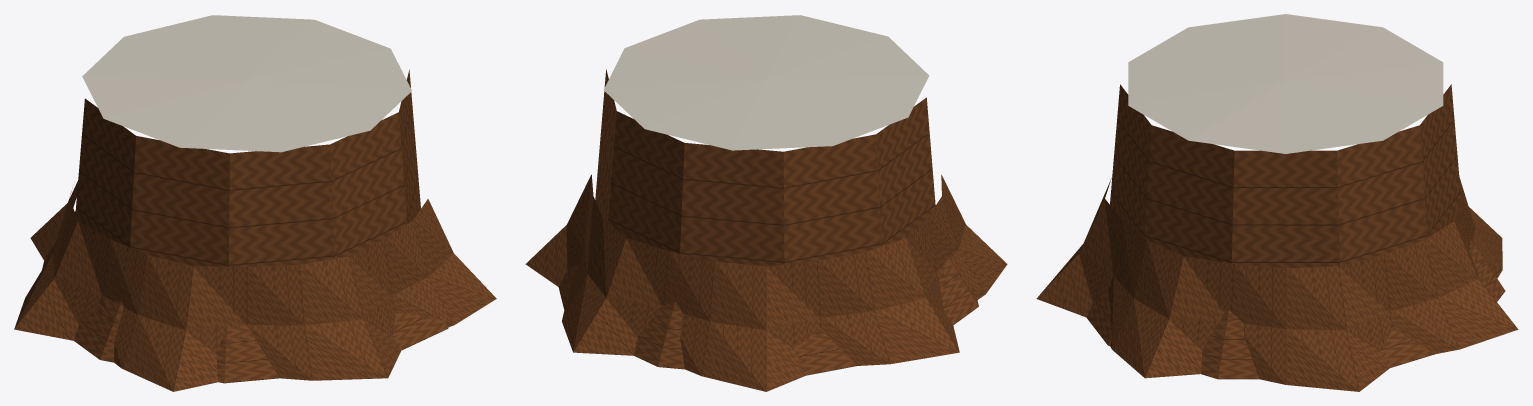
The model's file is dense-temperate-forest-flora-stump-large-dca9db05__28419.glb.
3 views of the same model, side by side, from view 1: azimuth 30°, elevation 25°; view 2: azimuth 150°, elevation 25°; view 3: azimuth 270°, elevation 25° (orthographic).
Parts seen in each view (by area): view 1: stump-large; view 2: stump-large; view 3: stump-large.
Boxes of the visible parts, bbox=[...] form: stump-large: bbox=[14, 15, 496, 391]; stump-large: bbox=[525, 15, 1007, 391]; stump-large: bbox=[1036, 14, 1518, 391].
Bounding box in the file's own units: 1.53 × 0.732 × 1.52.
Materials: 2 (1 with a texture image).
